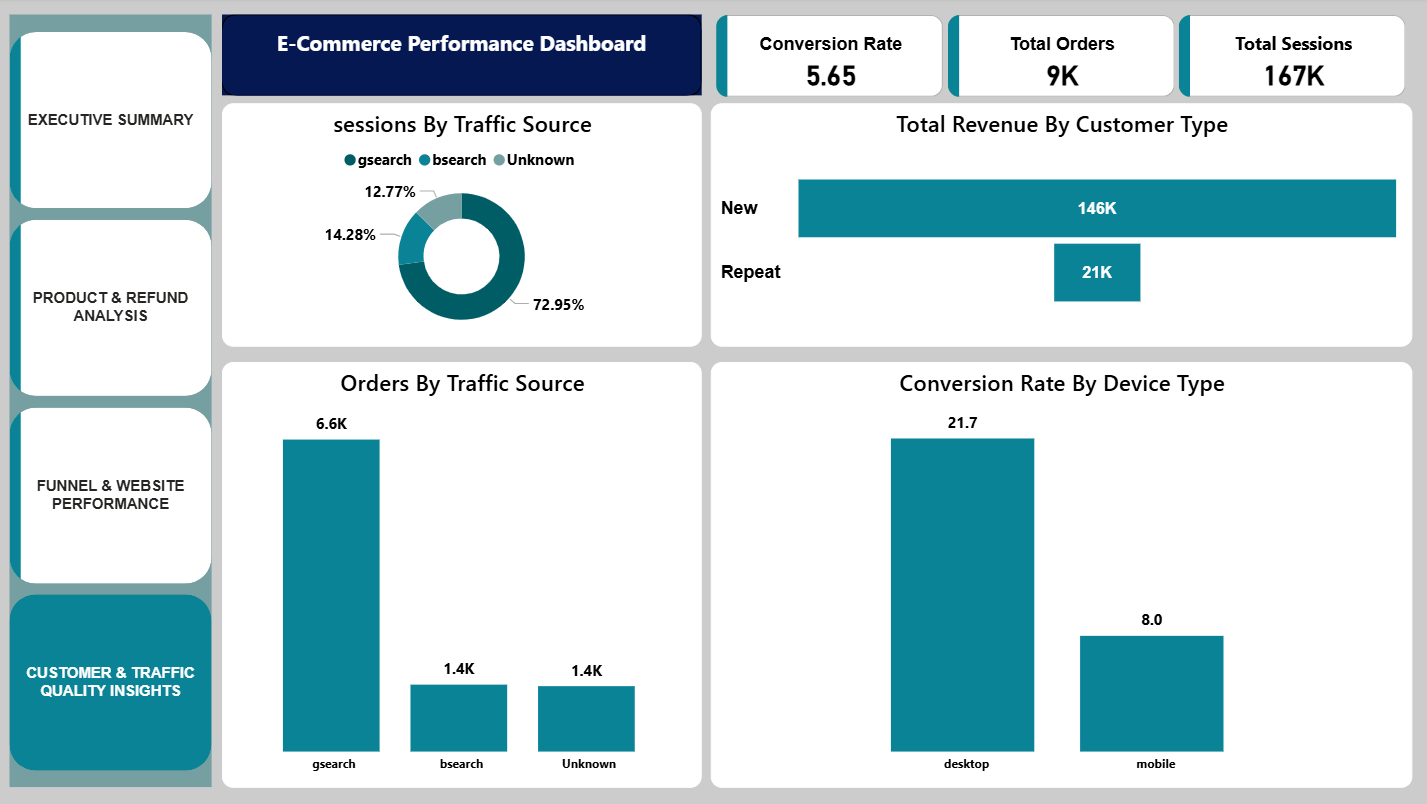

The page's visual inventory and layout, read from the dashboard file:
{"tool":"powerbi","page":{"name":"CUSTOMER & TRAFFIC QUALITY INSIGHTS","canvas":[1280,720],"ordinal":3},"visuals":[{"type":"shape","box":[204.9,16,427,72.4],"z":0},{"type":"textbox","box":[204.9,17.2,427,71.2],"z":1000},{"type":"funnel","title":" Total Revenue By Customer Type","fields":{"Y":["Sum(toy_store repeat_vs_new.sessions)"],"Category":["toy_store repeat_vs_new.Customer type"]},"box":[640.5,94.5,624.5,217.2],"z":2000},{"type":"columnChart","title":" Conversion Rate  By Device Type","fields":{"Category":["toy_store conversion_by_traffic.device_type"],"Y":["Sum(toy_store conversion_by_traffic.Conversion_rate_by_traffic)"]},"box":[640.5,325.2,624.5,379.1],"z":3000},{"type":"donutChart","title":" sessions By Traffic Source","fields":{"Category":["toy_store conversion_by_traffic.Traffic_Source"],"Y":["Sum(toy_store conversion_by_traffic.sessions)"]},"box":[204.9,94.5,427,217.2],"z":4000},{"type":"columnChart","title":"Orders By Traffic Source","fields":{"Category":["toy_store conversion_by_traffic.Traffic_Source"],"Y":["Sum(toy_store conversion_by_traffic.orders)"]},"box":[204.9,325.2,427,379.1],"z":5000},{"type":"cardVisual","fields":{"Data":["Sum(toy_store conversion_rate.Conversion Rate)","Sum(toy_store conversion_rate.orders)","Sum(toy_store conversion_rate.sessions)"]},"box":[640.5,11,624.5,83.4],"z":6000},{"type":"shape","box":[16,16,180.4,688.3],"z":7000},{"type":"pageNavigator","box":[16,30.7,180.4,658.9],"z":8000}]}

Visuals, with their boxes in screenshot pixels (x1, y1, x2, y2), scaled from the page's 1280x720 canvas onto the 1427x804 screenshot:
shape: region(228, 18, 704, 99)
textbox: region(228, 19, 704, 99)
" Total Revenue By Customer Type" funnel: region(714, 106, 1410, 348)
" Conversion Rate  By Device Type" columnChart: region(714, 363, 1410, 786)
" sessions By Traffic Source" donutChart: region(228, 106, 704, 348)
"Orders By Traffic Source" columnChart: region(228, 363, 704, 786)
cardVisual - Sum(toy_store conversion_rate.Conversion Rate) x Sum(toy_store conversion_rate.orders): region(714, 12, 1410, 105)
shape: region(18, 18, 219, 786)
pageNavigator: region(18, 34, 219, 770)
